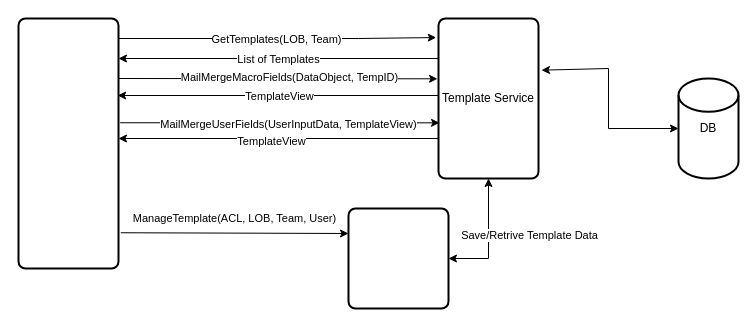
The diagram is 756 pixels wide and 326 high, and some of its shapes have lost their labels. Each missing label, with the centre of its shape:
"CRG/CasePrep" belongs at (68,143).
"Template Maker" belongs at (398,258).
